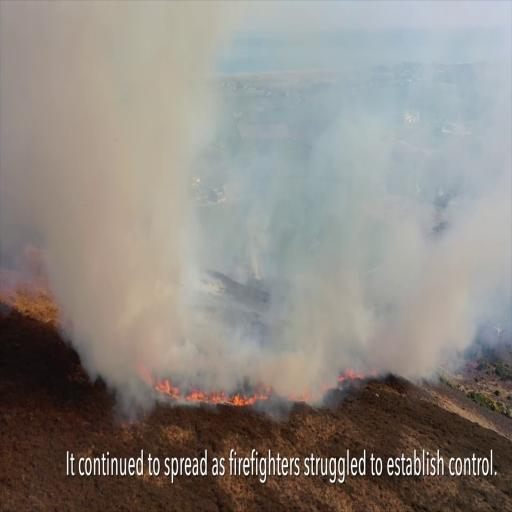fire: (161, 382, 270, 408)
smoke: (0, 0, 177, 200), (65, 0, 162, 361), (403, 178, 512, 347)
